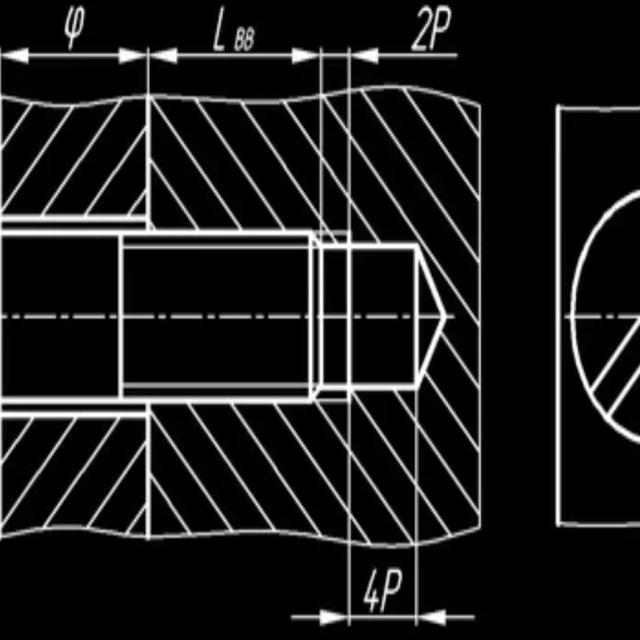marking_line: (151, 45, 316, 65), (2, 43, 145, 62), (354, 50, 461, 63), (289, 610, 346, 631), (426, 608, 481, 626)
numeric: (361, 562, 408, 617), (413, 5, 455, 51), (233, 24, 255, 52)
